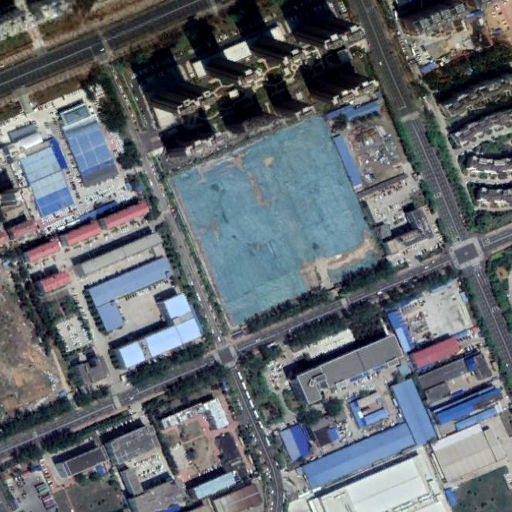cw: (169, 115, 379, 331)
